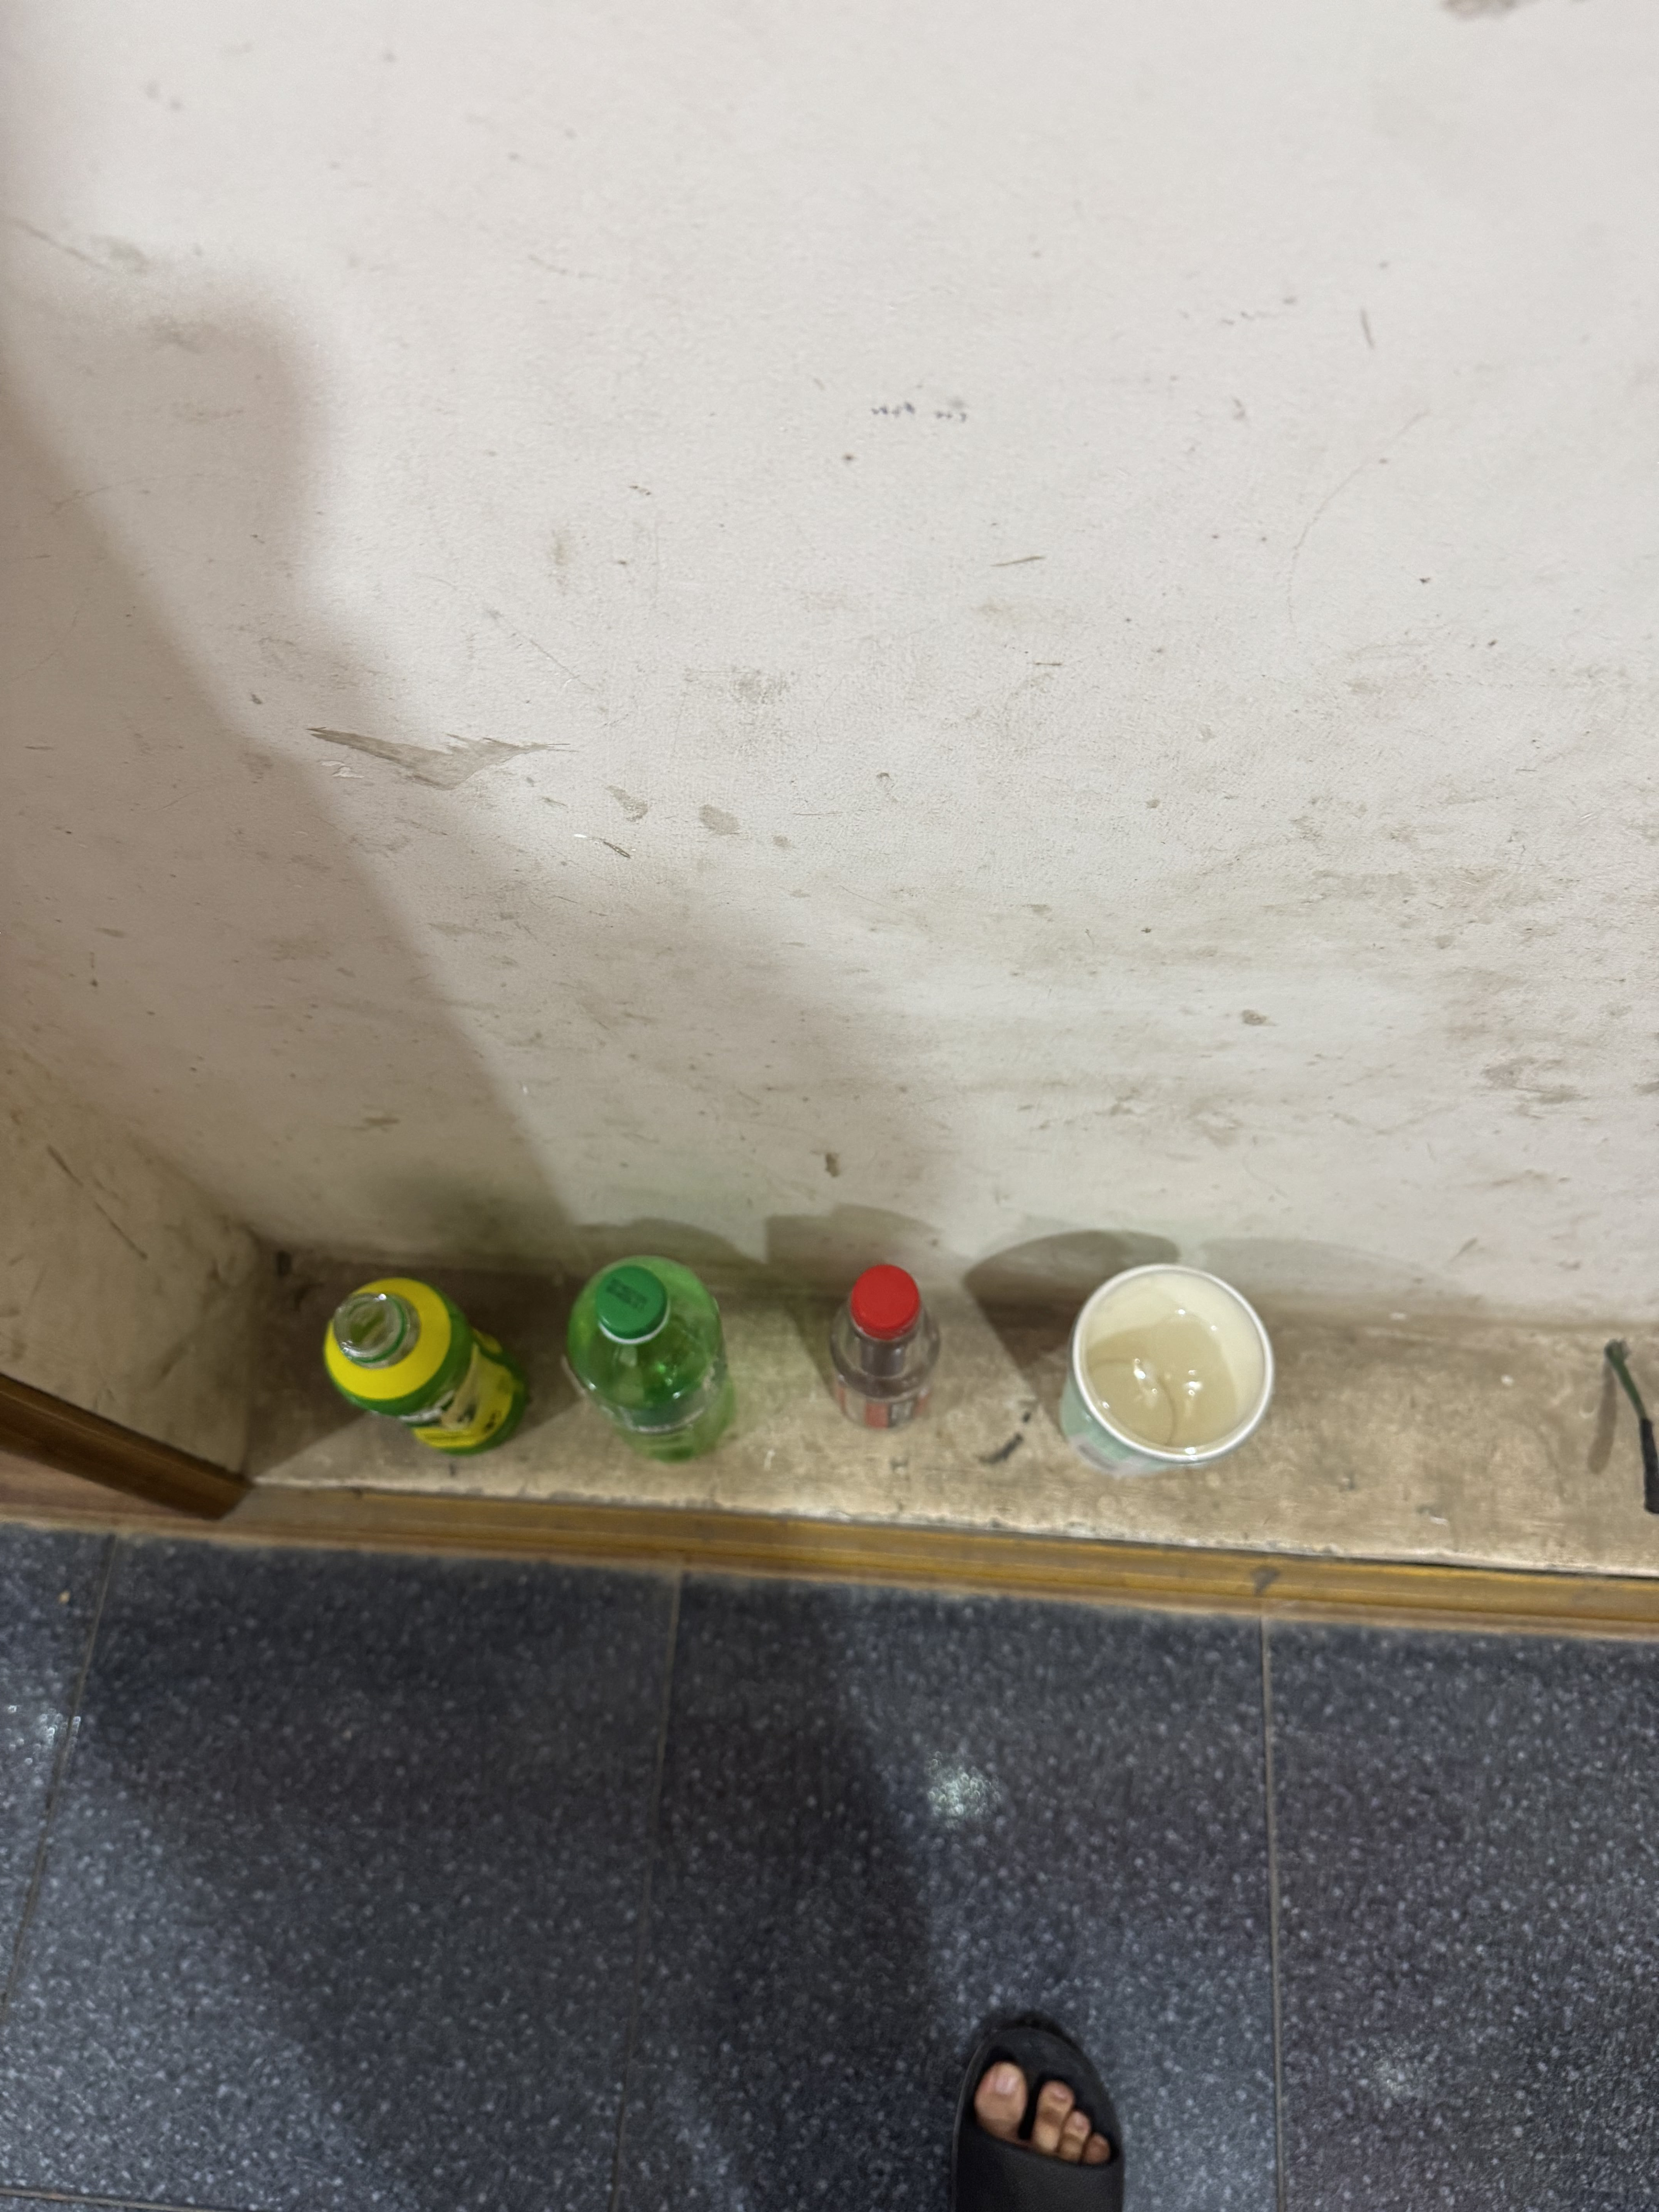2: (1014, 1235, 1302, 1517)
bottle: (300, 1226, 542, 1517), (554, 1230, 760, 1527), (791, 1238, 979, 1474)
